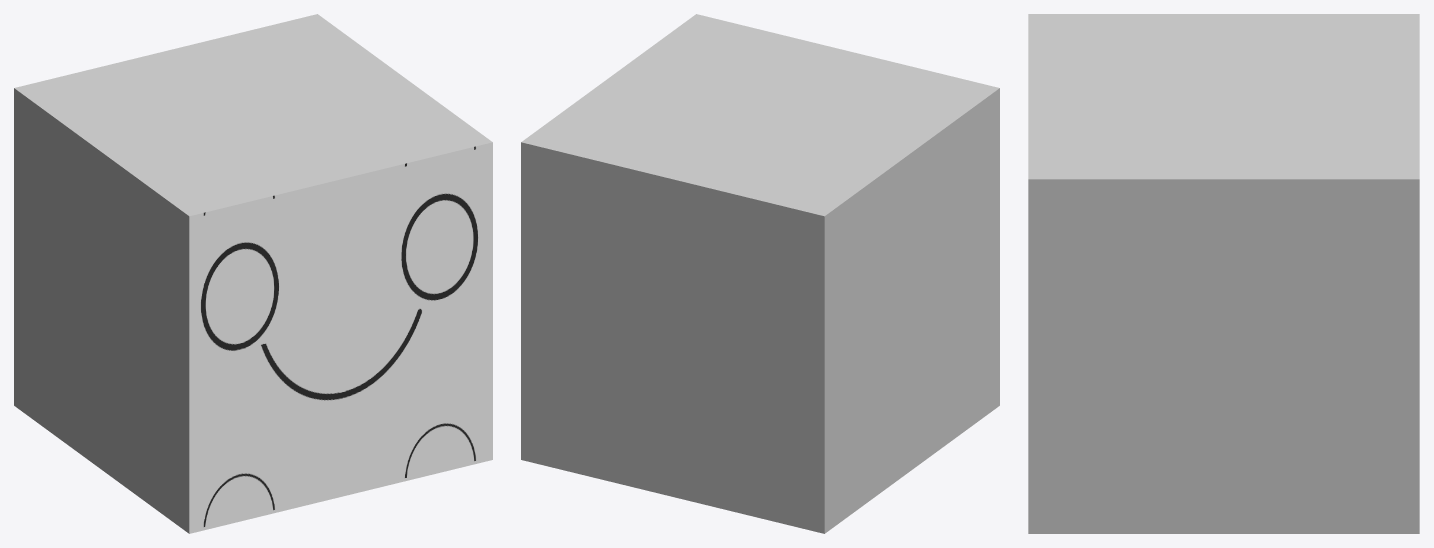
Rendered from Player_defult.fbx.
The picture shows the model from 3 angles, left to right: view 1: azimuth 30°, elevation 25°; view 2: azimuth 150°, elevation 25°; view 3: azimuth 270°, elevation 25°; orthographic projection. The views are drawn at different scales.
Parts seen in each view (by area): view 1: Box001; view 2: Box001; view 3: Box001.
Boxes of the visible parts, x1,y1,x2,y2 form: Box001: [14, 14, 492, 533]; Box001: [521, 14, 999, 533]; Box001: [1028, 14, 1419, 533].
Bounding box in the file's own units: 50 × 50 × 50.
